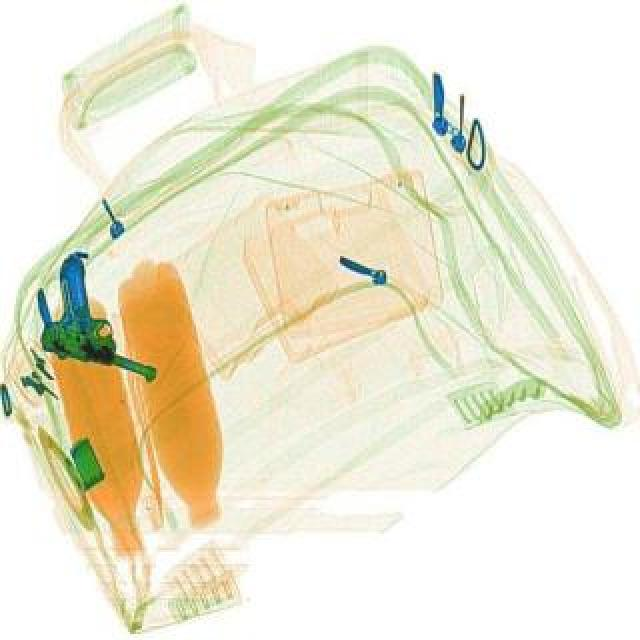gun: (34, 248, 190, 388)
